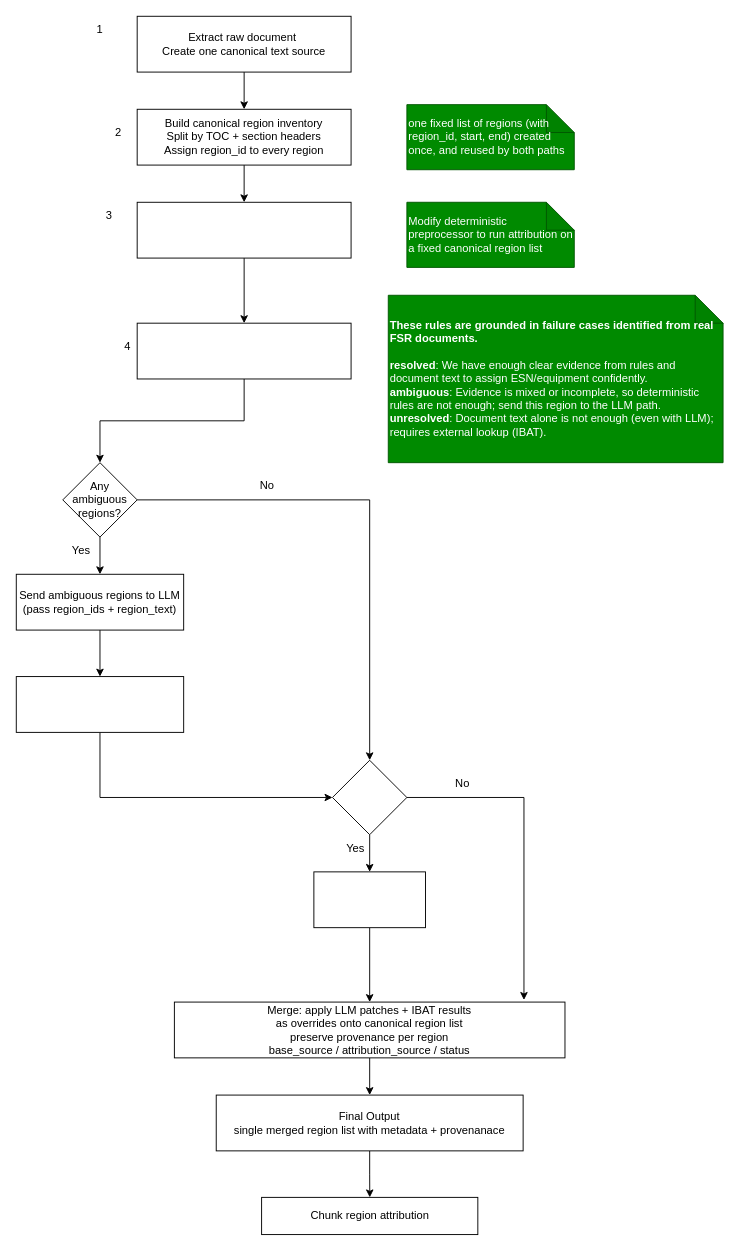
This 739x1251 diagram has some shape labels left out. The centre of each missing label's shape, as x and y in pixels:
"Any unresolved regions?" goes at [369,797].
"Apply rule-based ambiguity detection (resolved/ ambiguous )" goes at [243,350].
"IBAT Train lookup" goes at [369,899].
"LLM returns attribution decisions keyed by region_id" goes at [99,704].
"Run deterministic attribution on all canonical regions" goes at [243,229].
